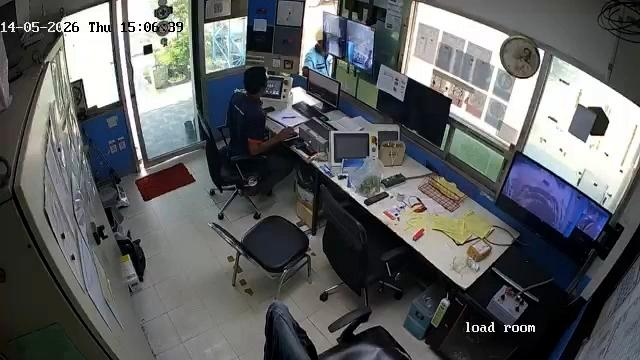Head: (243, 66, 270, 96)
People: (226, 66, 295, 197)
Phone: (263, 106, 276, 113)
